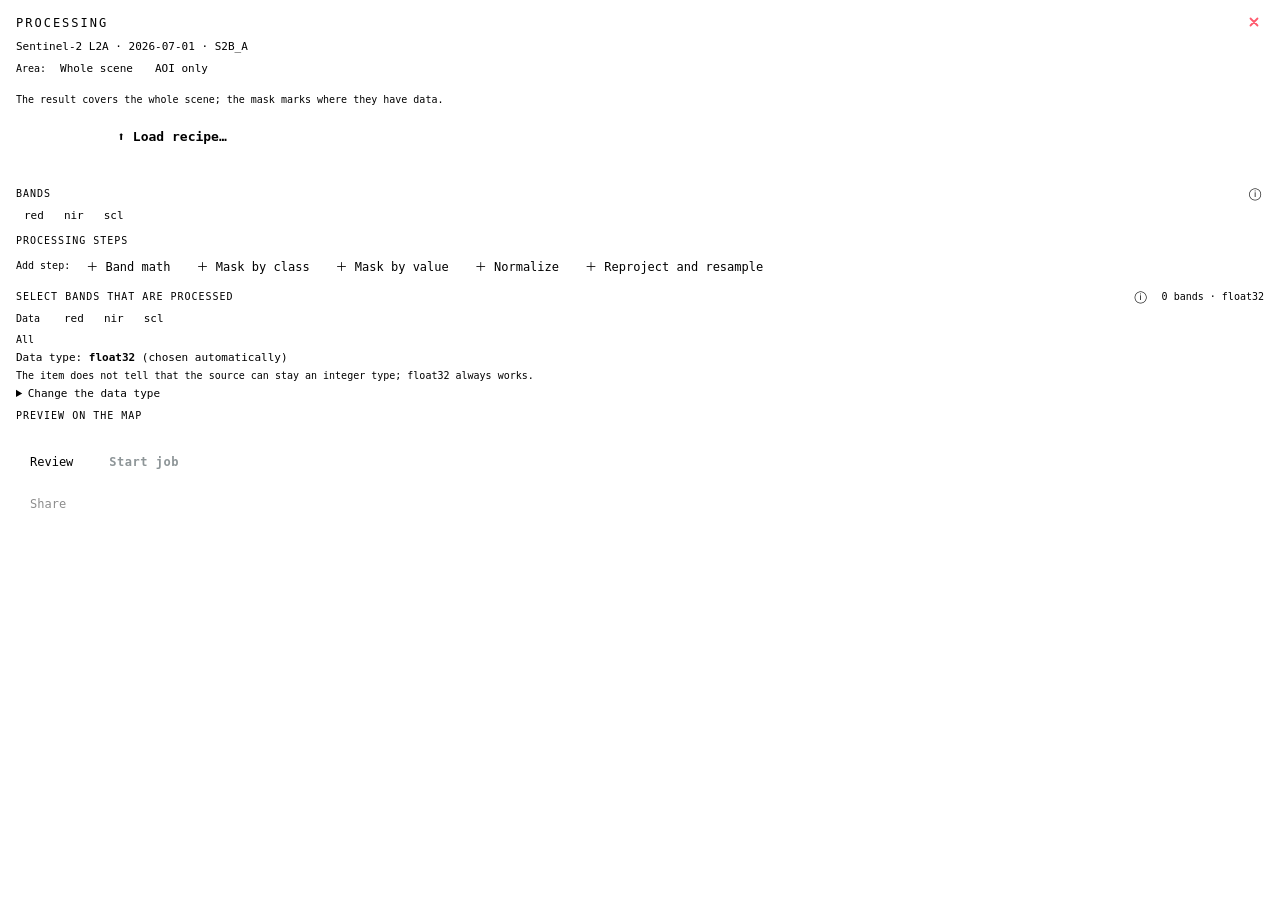
Test: a mask by value step › is named like a step without a band of its own, and starts at "below"
The width and height of the screenshot is (1280, 900).
Click the button "＋ Mask by value" at (392, 266), box x1=326 y1=252 x2=459 y2=279
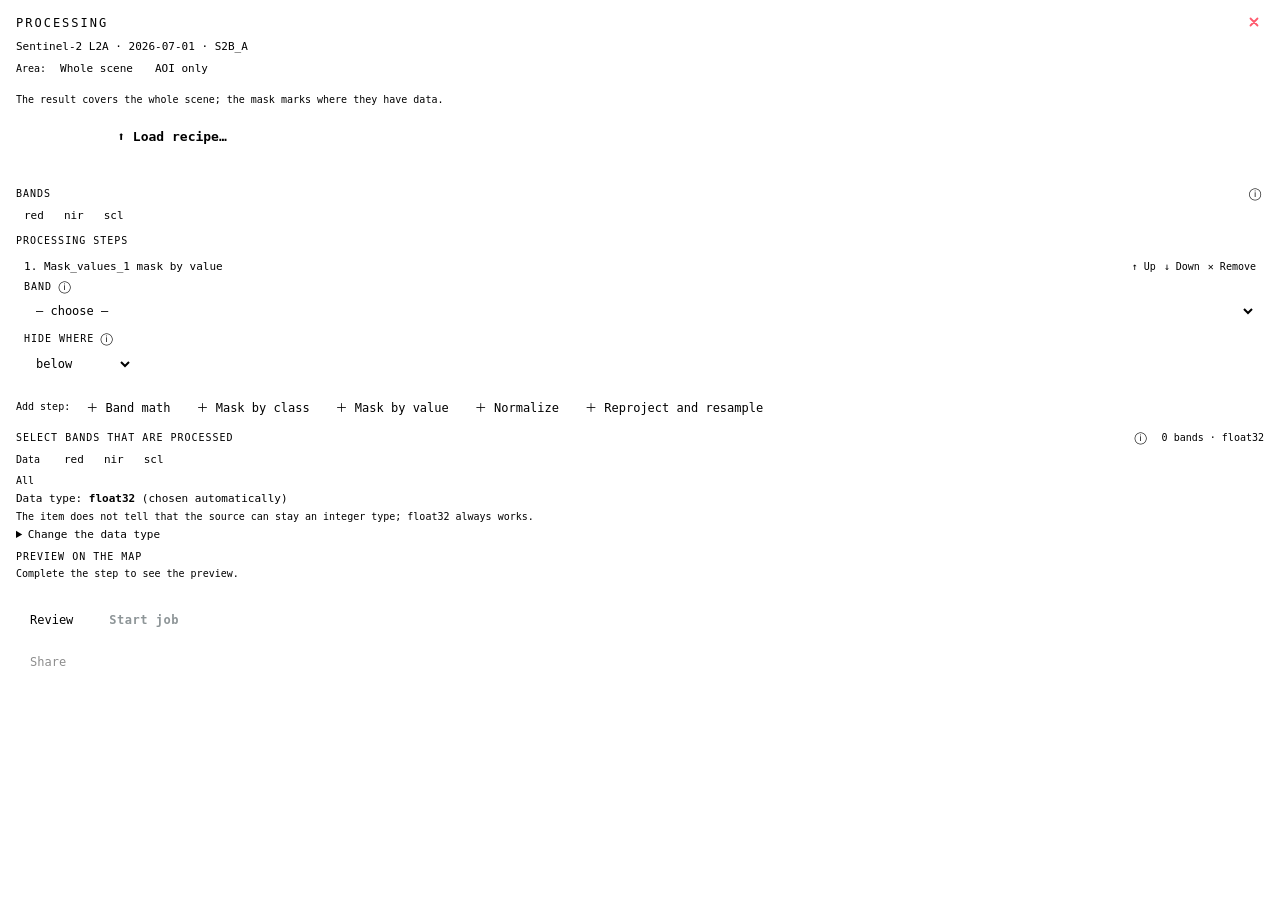
Expected: the element showing "1. Mask_values_1 mask by value" is shown, x1=24 y1=260 x2=223 y2=273
Expected: the dropdown named "Condition" shows "below", x1=24 y1=350 x2=133 y2=378
Expected: the dropdown labelled "Band ⓘ" shows "— choose —", x1=24 y1=297 x2=1256 y2=325
